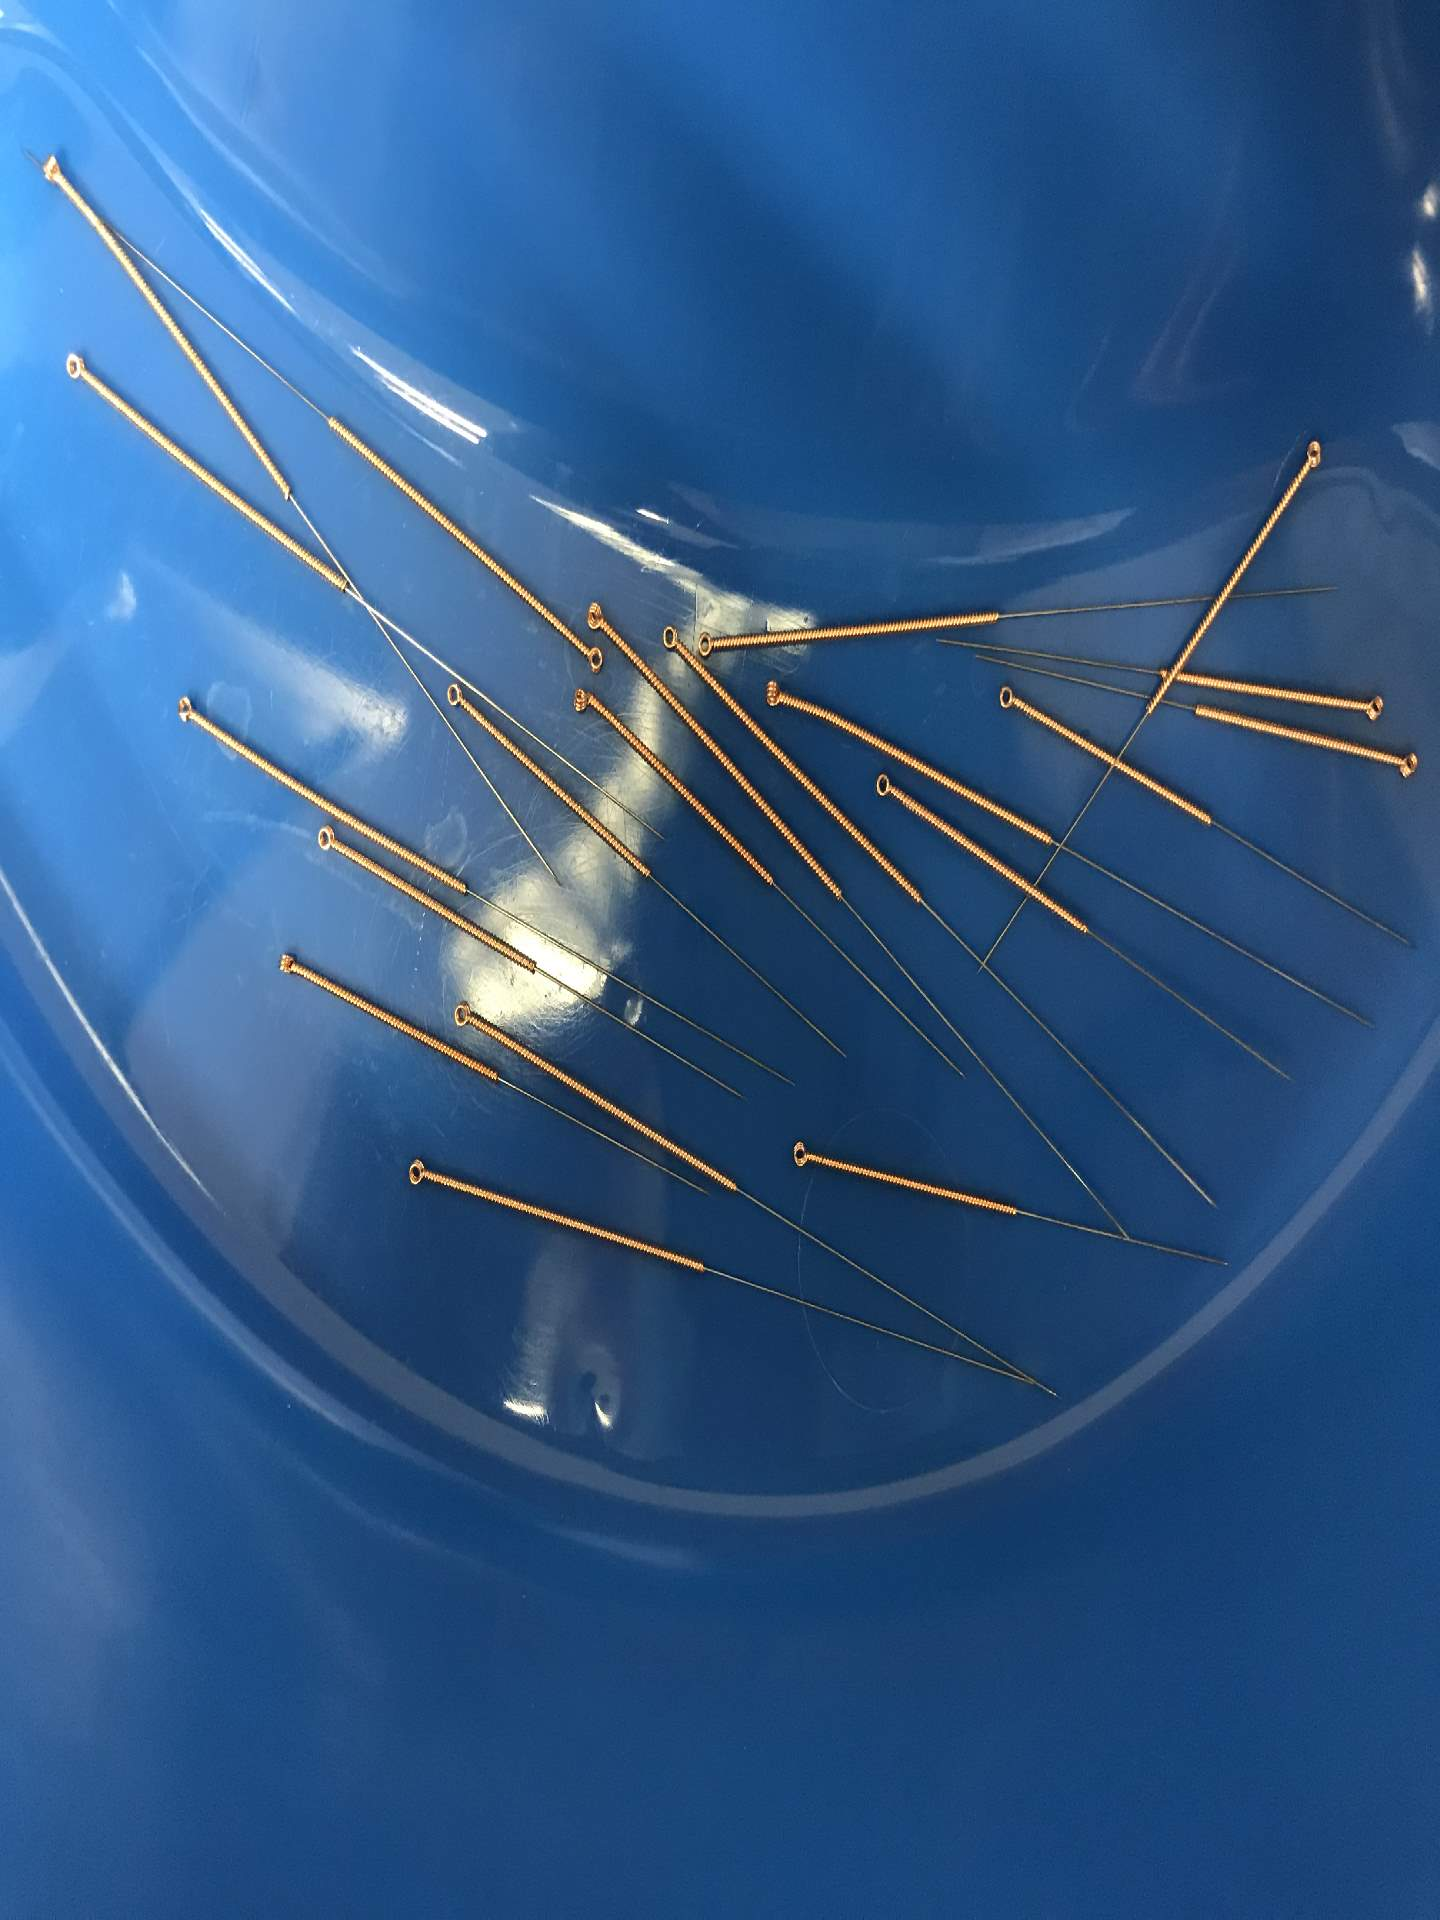needle: (1293, 431, 1331, 482), (396, 1149, 439, 1193), (784, 1134, 826, 1178), (445, 993, 486, 1039), (57, 345, 97, 392), (988, 676, 1030, 718), (306, 819, 346, 863), (166, 688, 206, 732), (755, 673, 796, 714), (33, 147, 68, 194), (865, 765, 905, 804), (1354, 686, 1392, 727), (268, 945, 306, 984), (440, 677, 476, 718), (578, 594, 613, 636), (1389, 742, 1423, 785), (694, 623, 728, 664), (570, 638, 607, 674), (655, 618, 688, 658), (569, 682, 597, 717)
